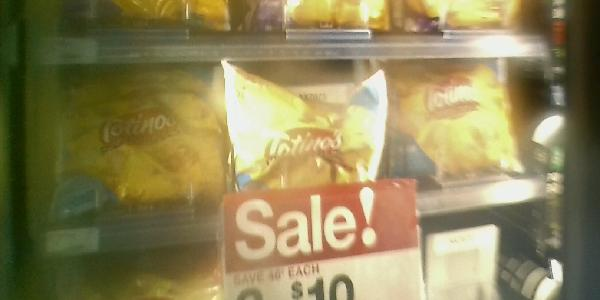icecream: (48, 66, 228, 207), (222, 58, 388, 199), (389, 59, 524, 186)
